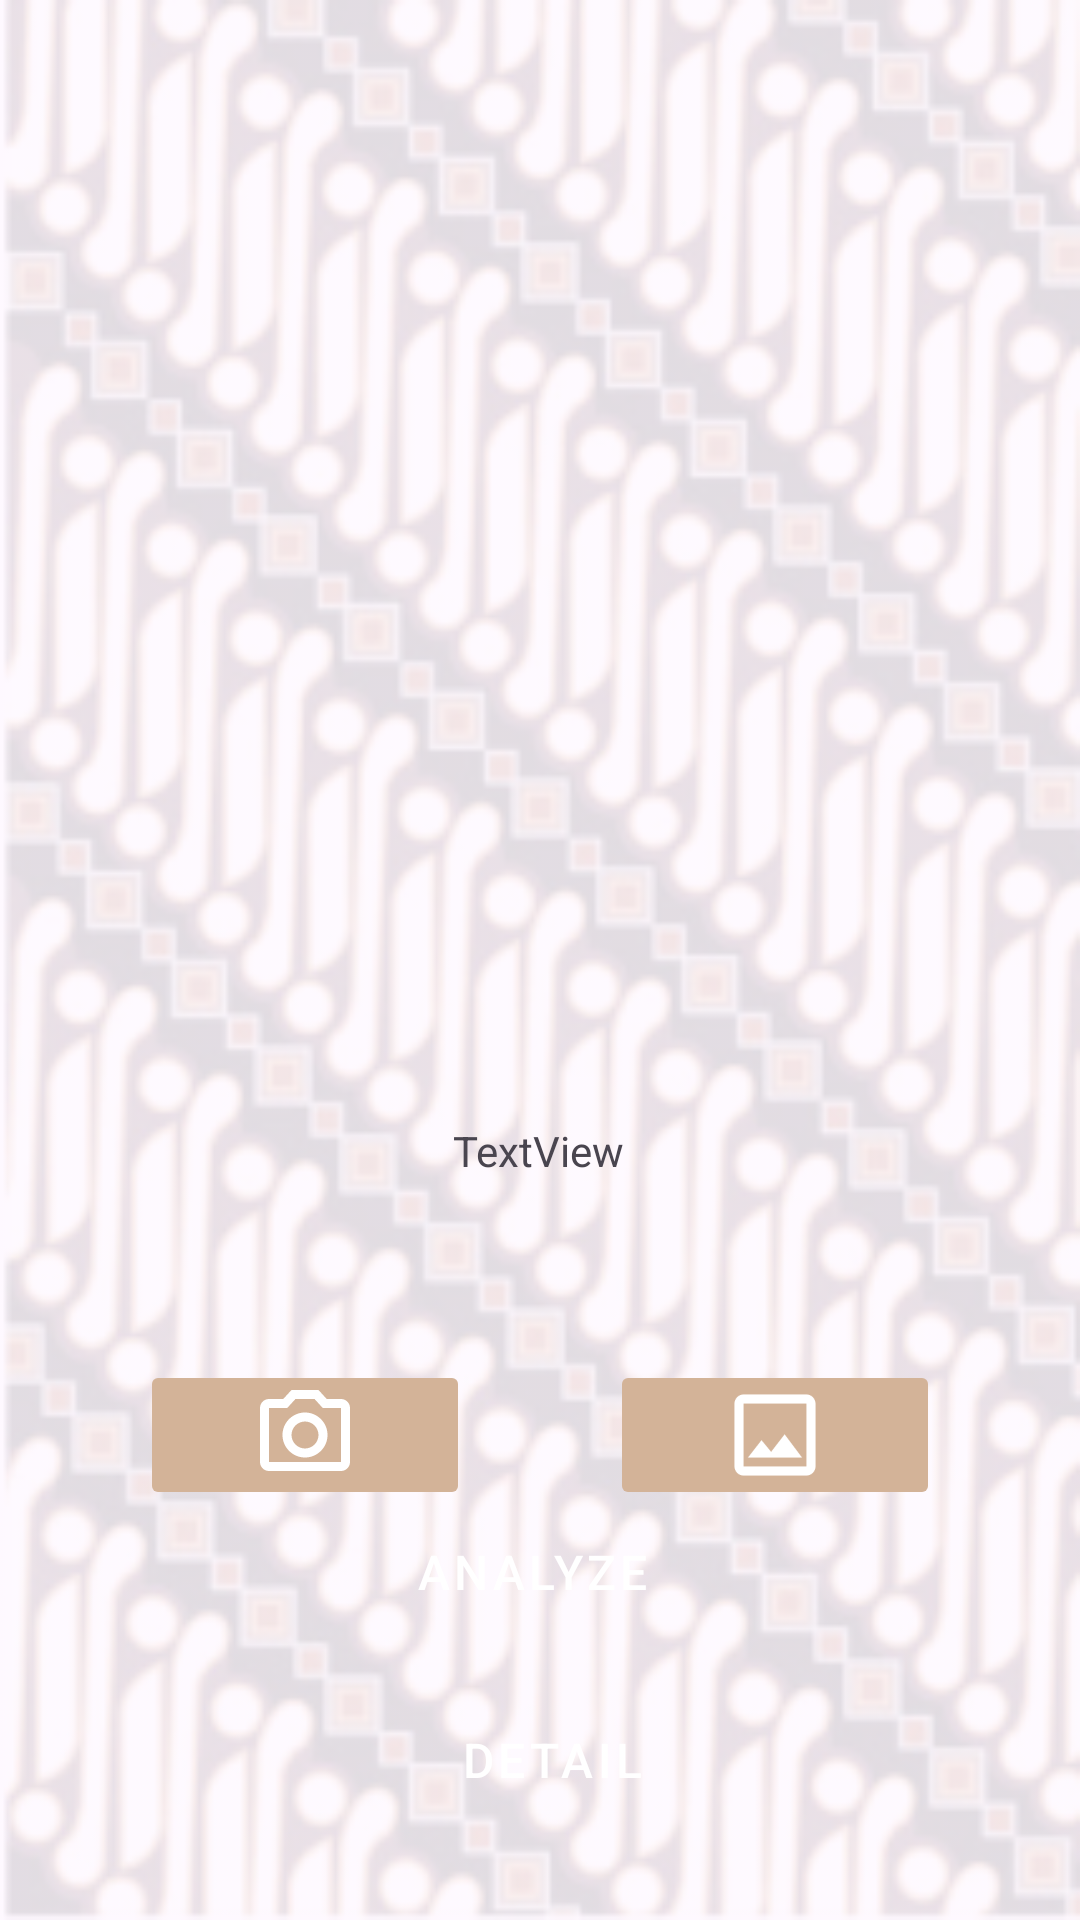

Point at icon controls on the screen. Image size 1080x1920, points as [x,y].
Camera: [305,1435]
Gallery: [775,1435]
